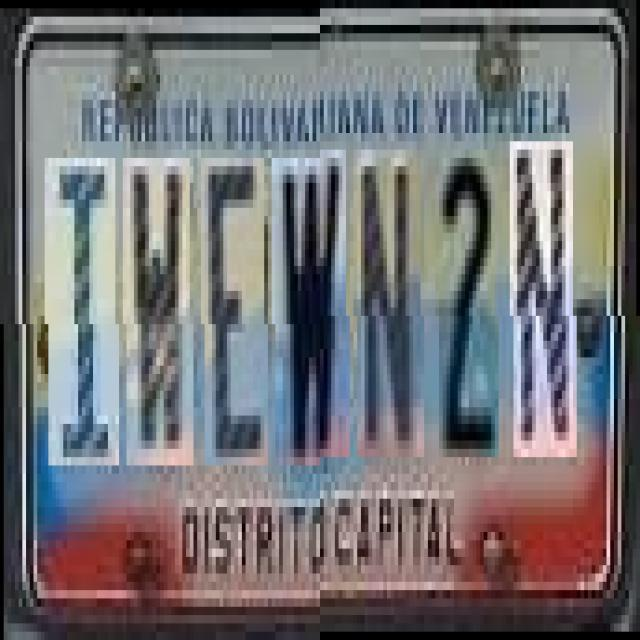2: (439, 157, 499, 466)
E: (204, 157, 268, 466)
I: (48, 157, 119, 466)
N: (357, 157, 424, 466), (513, 150, 577, 466)
W: (275, 157, 350, 466), (126, 157, 194, 466)
